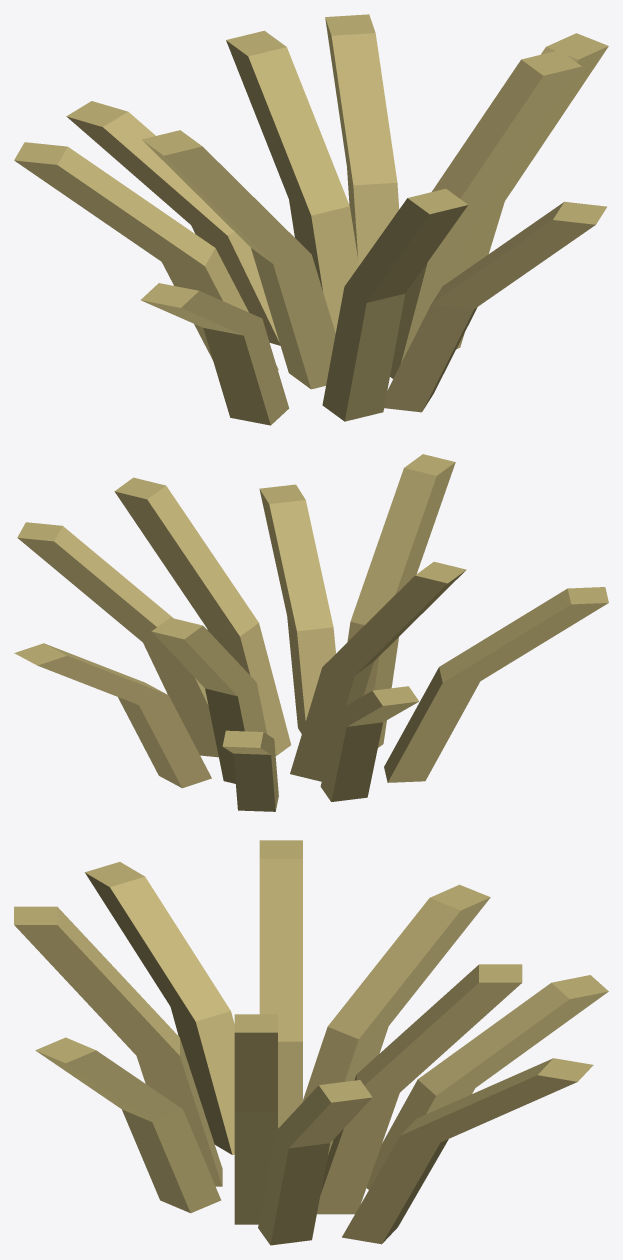
File: DryShrub_Big.fbx
3 views of the same model, one above another, from view 1: azimuth 30°, elevation 25°; view 2: azimuth 150°, elevation 25°; view 3: azimuth 270°, elevation 25° (orthographic). The views are drawn at different scales.
Parts seen in each view (by area): view 1: DryShrub_Big; view 2: DryShrub_Big; view 3: DryShrub_Big.
Boxes of the visible parts, box(x1,y1,x2,y2) form: DryShrub_Big: box(14, 14, 608, 425); DryShrub_Big: box(14, 454, 608, 811); DryShrub_Big: box(14, 840, 608, 1245).
Size of the model in its own units: 2.24 by 1 by 2.06.
